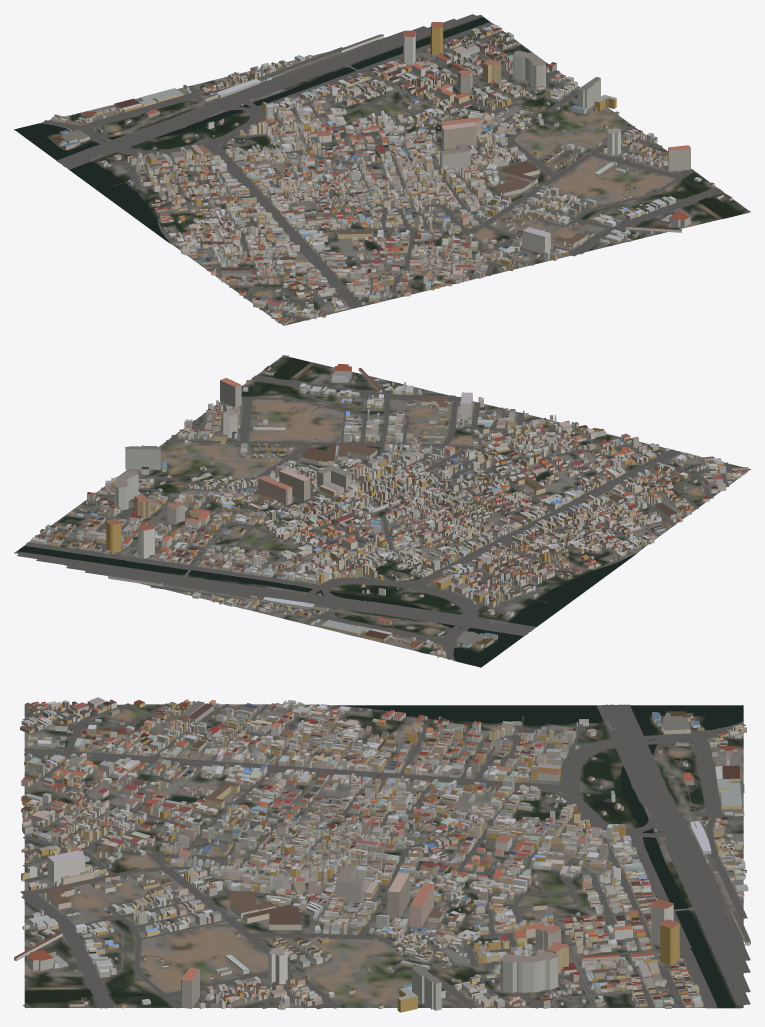
The picture shows the model from 3 angles, top to bottom: view 1: azimuth 30°, elevation 25°; view 2: azimuth 150°, elevation 25°; view 3: azimuth 270°, elevation 25°; orthographic projection. The views are drawn at different scales.
Visible parts, largest first — view 1: buildings, ground, roads, water; view 2: buildings, ground, roads, water; view 3: buildings, ground, roads, water.
Boxes of the visible parts, box(x1,y1,x2,y2) form: buildings: box(51, 22, 732, 324); ground: box(14, 14, 750, 325); roads: box(43, 14, 750, 320); water: box(15, 17, 740, 242); buildings: box(31, 364, 748, 657); ground: box(14, 356, 750, 667); roads: box(17, 355, 731, 659); water: box(18, 358, 635, 666); buildings: box(14, 697, 750, 1012); ground: box(24, 704, 743, 1008); roads: box(20, 703, 750, 1009); water: box(24, 705, 743, 1007).
Bounding box in the file's own units: 1430 × 86.22 × 1435.
